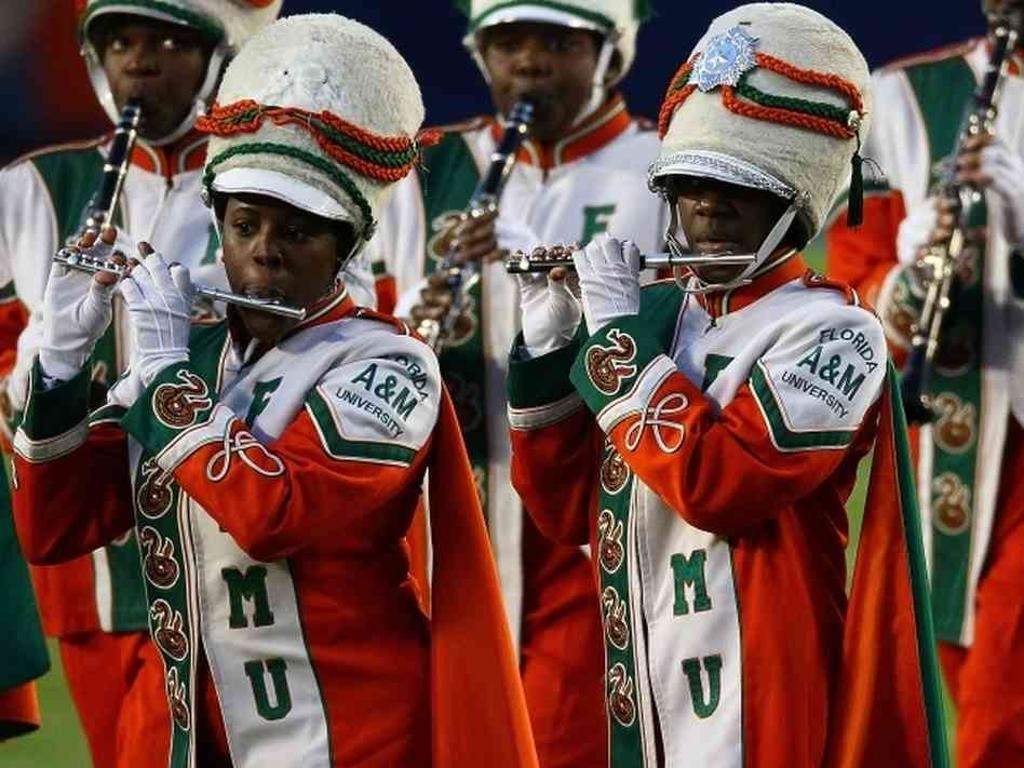human_face: (674, 140, 792, 284), (222, 176, 340, 316), (484, 4, 602, 138), (100, 4, 216, 134)
